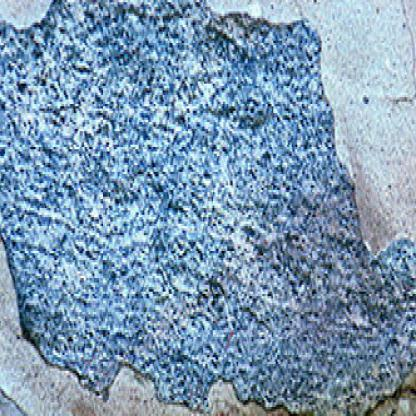Igneous_Diorite: (2, 0, 408, 414)
